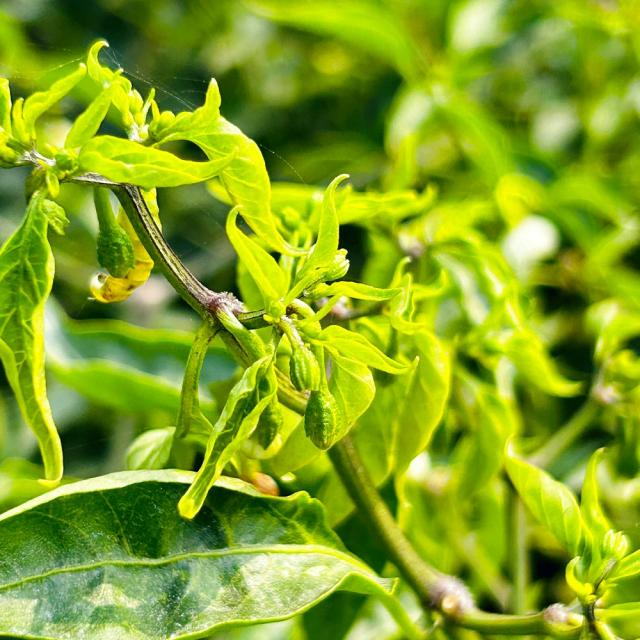Chilli_Leaf_Curl: (1, 37, 414, 519), (0, 466, 408, 638), (223, 172, 413, 451), (501, 437, 639, 638), (0, 186, 68, 485), (175, 349, 283, 520)
